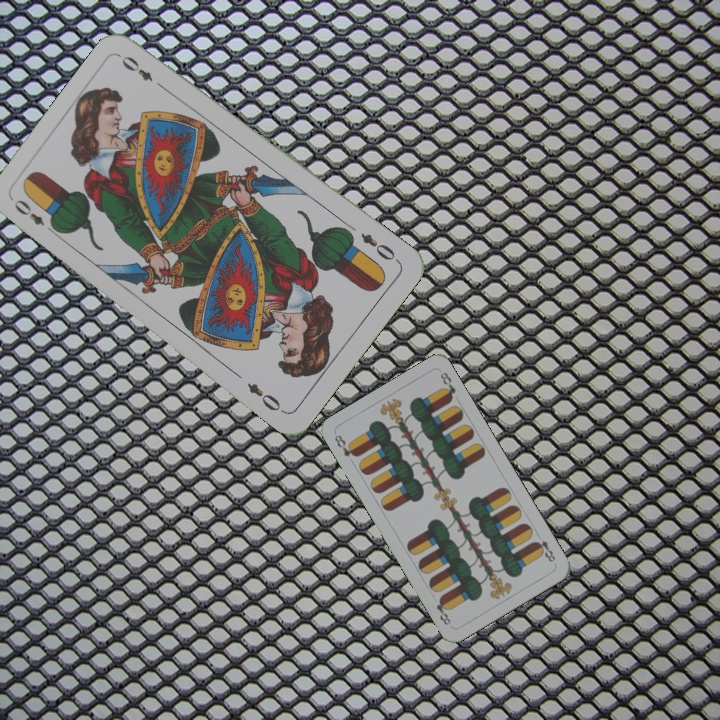E8: (330, 431, 360, 460), (530, 536, 558, 565)
EO: (9, 195, 60, 236), (356, 229, 402, 265)
